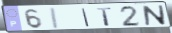2: (120, 5, 141, 27)
6: (24, 8, 44, 30)
I: (50, 7, 61, 30), (81, 7, 91, 27)
N: (141, 4, 167, 26)
T: (96, 7, 114, 27)
